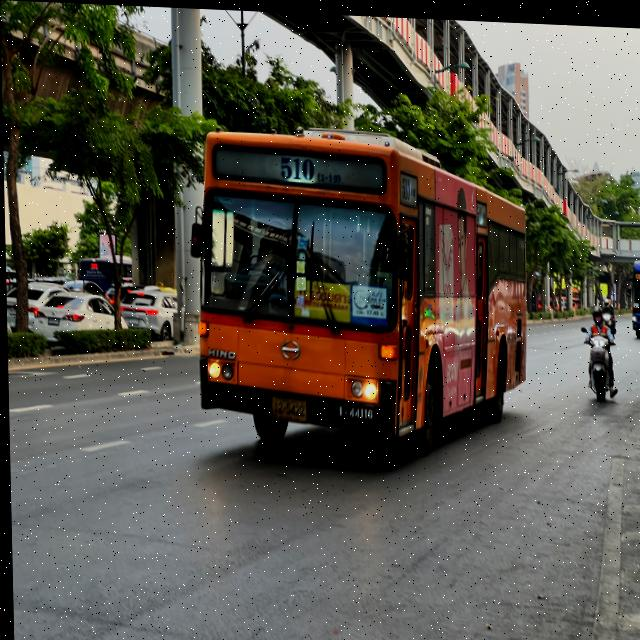BMTA-bus: (182, 105, 533, 470)
Bus-Line-Number: (276, 149, 345, 183)
Destination-Sign-Normal-Expressway: (292, 275, 351, 322)
